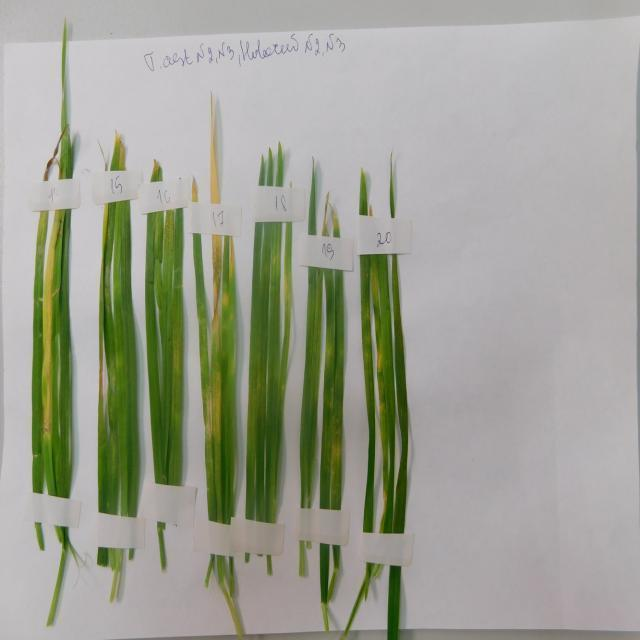Yellow Rust: (29, 210, 70, 499)
